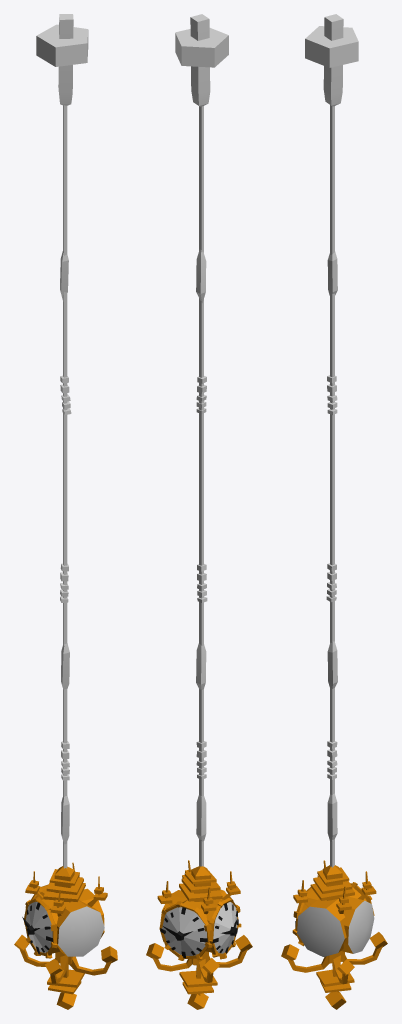
File: NY_penduClock.fbx
The picture shows the model from 3 angles, left to right: view 1: azimuth 30°, elevation 25°; view 2: azimuth 150°, elevation 25°; view 3: azimuth 330°, elevation 25°; orthographic projection.
Visible parts, largest first — view 1: clock, cable, topBit; view 2: clock, cable, topBit; view 3: clock, cable, topBit.
Part boxes in pixels (x1,y1,x2,y2): clock: (14, 862, 117, 1009); cable: (60, 105, 71, 868); topBit: (36, 14, 88, 105); clock: (146, 860, 252, 1009); cable: (196, 106, 207, 866); topBit: (175, 14, 228, 106); clock: (281, 860, 387, 1009); cable: (326, 105, 337, 867); topBit: (305, 14, 358, 106).
Bounding box in the file's own units: 51.42 × 671 × 51.94.
